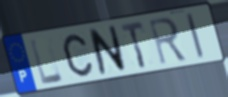C: (61, 32, 95, 78)
I: (185, 11, 206, 61)
L: (28, 37, 65, 87)
N: (87, 24, 129, 77)
R: (147, 15, 189, 67)
T: (119, 19, 148, 70)
